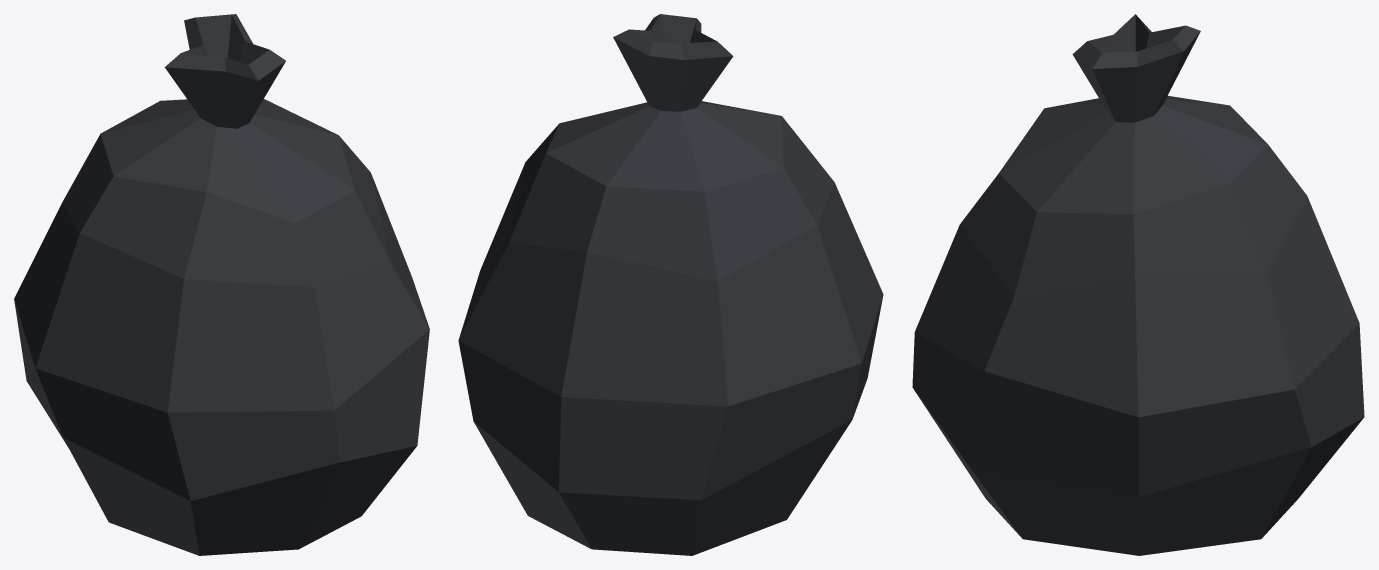
The model's file is SM_Prop_TrashBag_02.glb.
3 views of the same model, side by side, from view 1: azimuth 30°, elevation 25°; view 2: azimuth 150°, elevation 25°; view 3: azimuth 270°, elevation 25° (orthographic). The views are drawn at different scales.
Visible parts, largest first — view 1: SM_Prop_TrashBag_02; view 2: SM_Prop_TrashBag_02; view 3: SM_Prop_TrashBag_02.
Boxes of the visible parts, box(x1,y1,x2,y2) form: SM_Prop_TrashBag_02: box(14, 14, 429, 555); SM_Prop_TrashBag_02: box(458, 14, 883, 555); SM_Prop_TrashBag_02: box(912, 14, 1364, 555).
Bounding box in the file's own units: 0.00793 × 0.0098 × 0.00808.
Materials: 1 (1 with a texture image).
